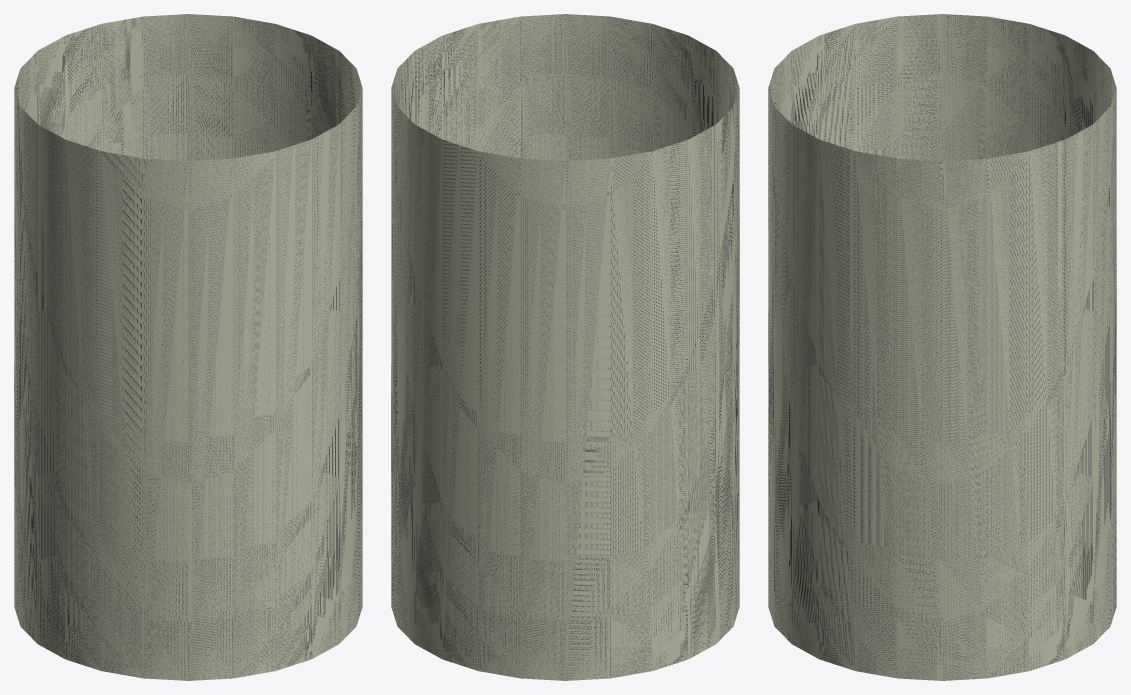
Rendered from original-66.obj.
3 renders of one model, left to right at view 1: azimuth 30°, elevation 25°; view 2: azimuth 150°, elevation 25°; view 3: azimuth 270°, elevation 25°, orthographic.
Visible parts, largest first — view 1: mesh52/mesh52-geometry/material_4/component_3#mesh52-geometry; view 2: mesh52/mesh52-geometry/material_4/component_3#mesh52-geometry; view 3: mesh52/mesh52-geometry/material_4/component_3#mesh52-geometry.
Part boxes in pixels (left/top/right/bottom): mesh52/mesh52-geometry/material_4/component_3#mesh52-geometry: left=14, top=14, right=362, bottom=680; mesh52/mesh52-geometry/material_4/component_3#mesh52-geometry: left=391, top=14, right=739, bottom=680; mesh52/mesh52-geometry/material_4/component_3#mesh52-geometry: left=768, top=14, right=1116, bottom=680.
Size of the model in its own units: 0.0344 by 0.0567 by 0.0344.
